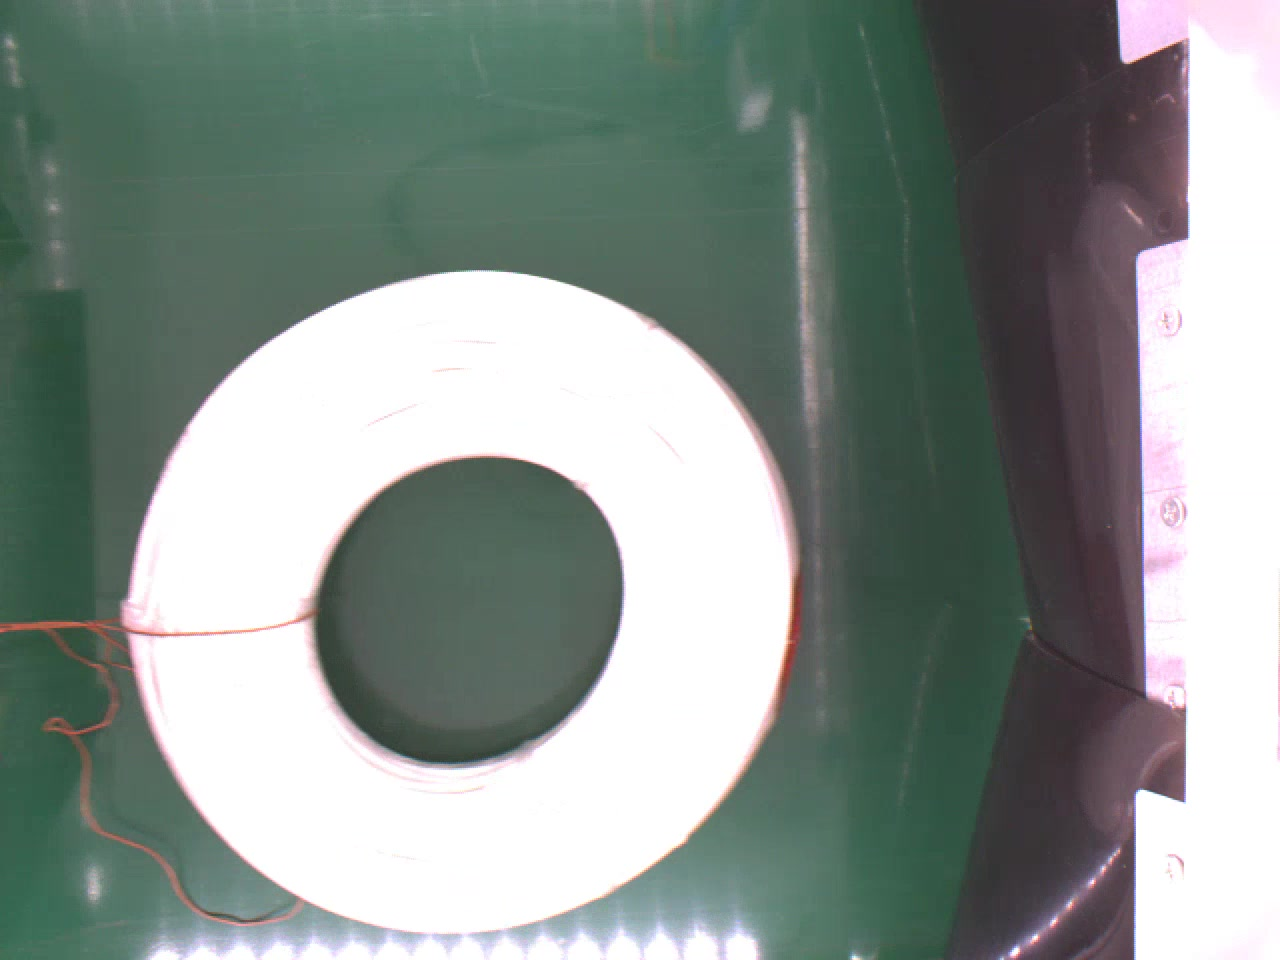white: (121, 266, 806, 937)
